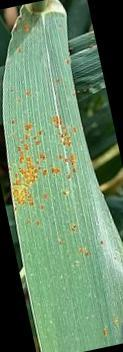Wheat: (44, 208, 112, 350), (16, 23, 65, 130), (11, 133, 83, 205)
